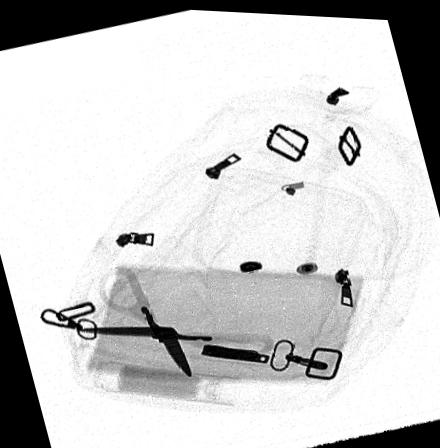Scissors: (73, 264, 276, 376)
